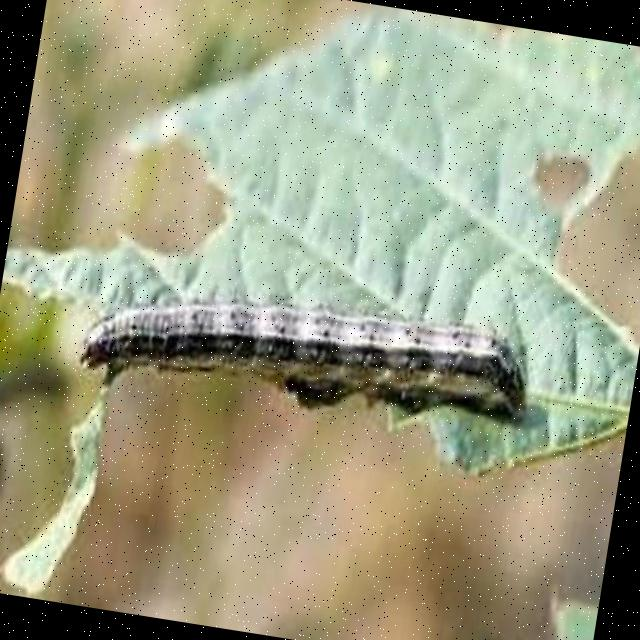worm: (74, 274, 538, 456)
